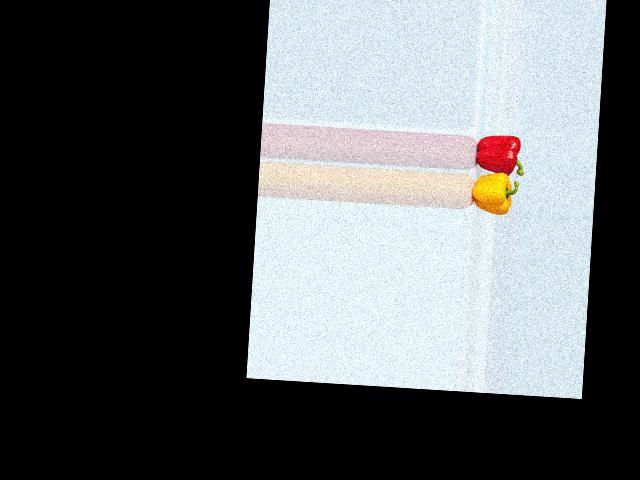bell_pepper: (469, 129, 524, 177)
